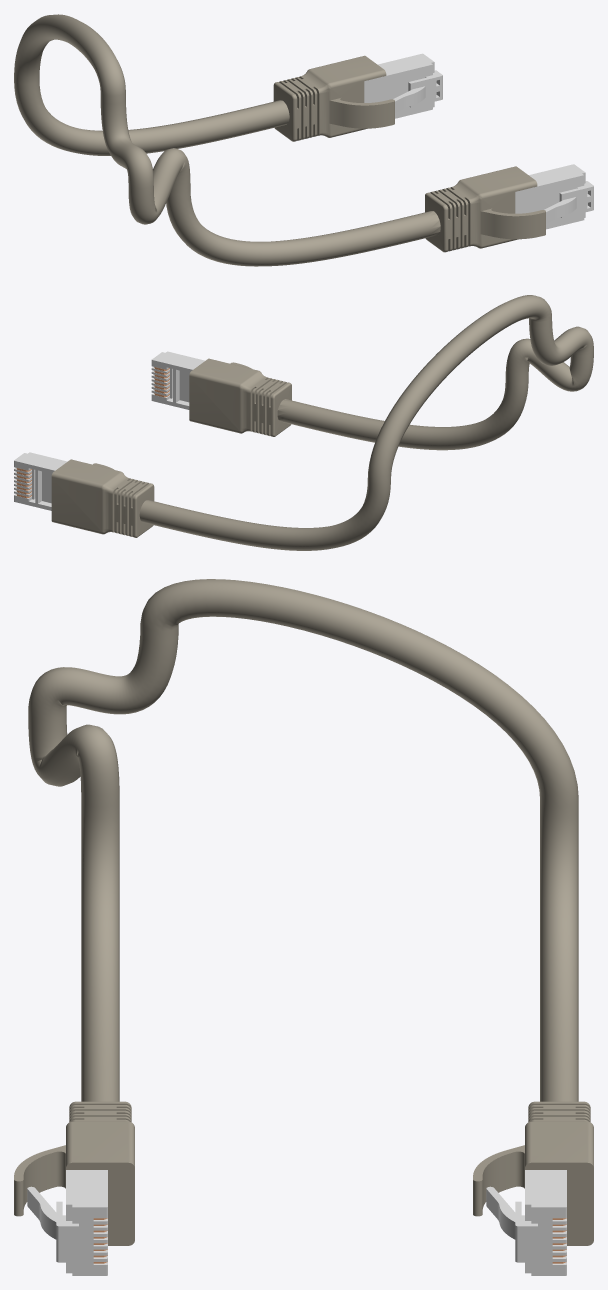
The picture shows the model from 3 angles, top to bottom: view 1: azimuth 30°, elevation 25°; view 2: azimuth 150°, elevation 25°; view 3: azimuth 270°, elevation 25°; orthographic projection. The views are drawn at different scales.
Visible parts, largest first — view 1: Cable.001, Extruded.045, Extruded.010, Extruded.012, Extruded.043; view 2: Cable.001, Extruded.045, Extruded.010, Extruded.012, Extruded.043; view 3: Cable.001, Extruded.045, Extruded.010, Extruded.043, Extruded.012.
Part boxes in pixels (x1,y1,x2,y2): Cable.001: [14, 14, 440, 266]; Extruded.045: [273, 55, 394, 141]; Extruded.010: [425, 166, 545, 252]; Extruded.012: [515, 164, 593, 229]; Extruded.043: [364, 53, 442, 118]; Cable.001: [139, 295, 593, 550]; Extruded.045: [51, 459, 154, 537]; Extruded.010: [189, 358, 291, 436]; Extruded.012: [151, 351, 204, 409]; Extruded.043: [14, 452, 67, 510]; Cable.001: [28, 579, 578, 1101]; Extruded.045: [473, 1101, 593, 1245]; Extruded.010: [14, 1101, 134, 1245]; Extruded.043: [486, 1170, 566, 1275]; Extruded.012: [27, 1170, 107, 1275].
Size of the model in its own units: 0.127 by 0.0648 by 0.0899.
